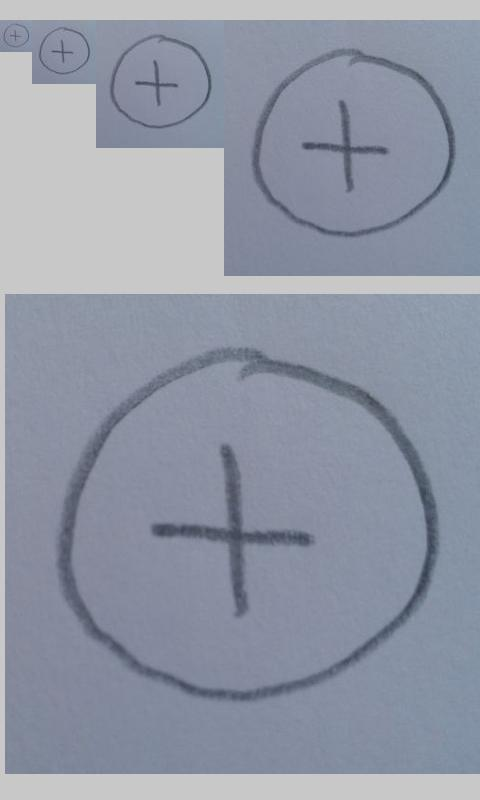button: (56, 347, 439, 703), (252, 48, 456, 239), (110, 34, 214, 130), (39, 27, 90, 75), (3, 23, 30, 48)
